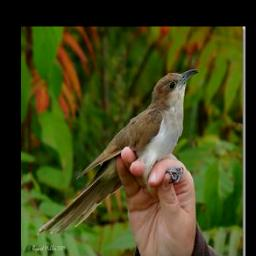Cuckoo: (37, 68, 199, 236)
